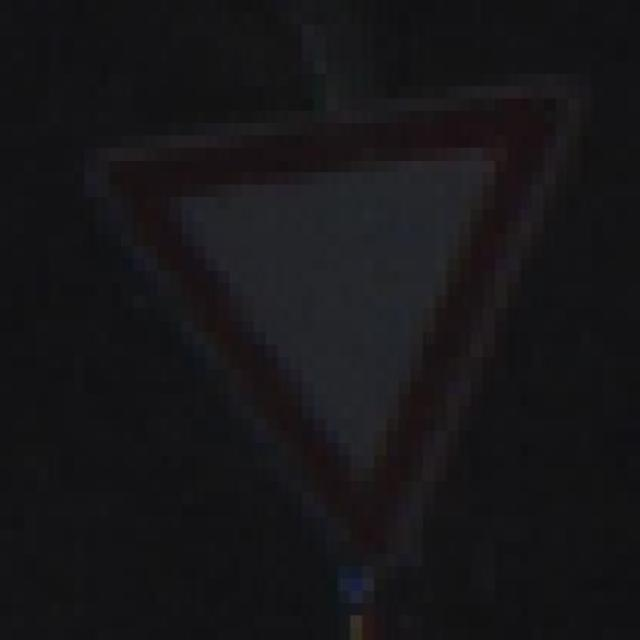Give Way: (53, 63, 633, 592)
